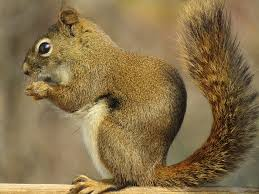Ardilla: (16, 5, 193, 176)
